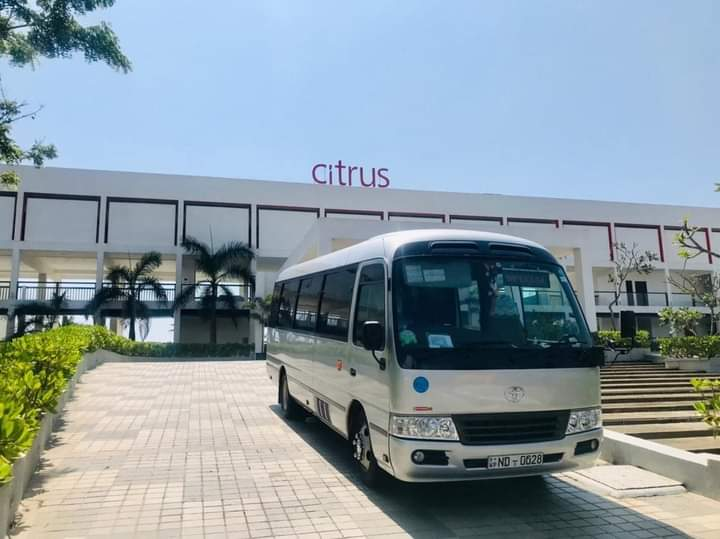number_plate: (487, 454, 544, 467)
